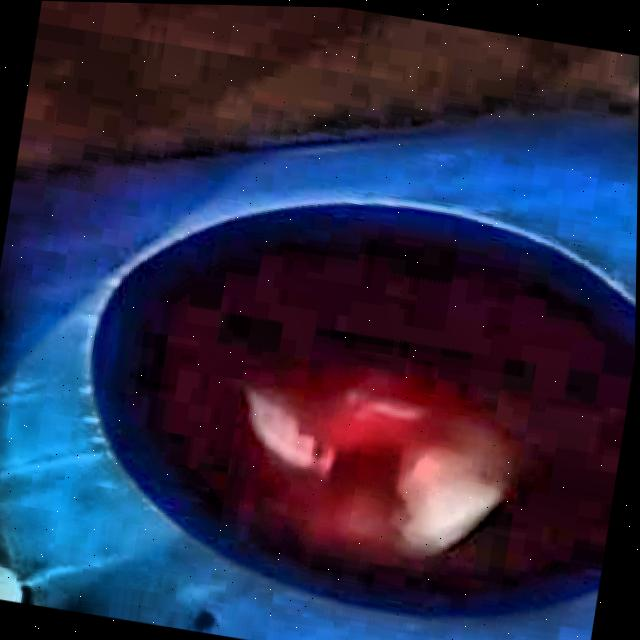metal: (298, 392, 504, 554)
